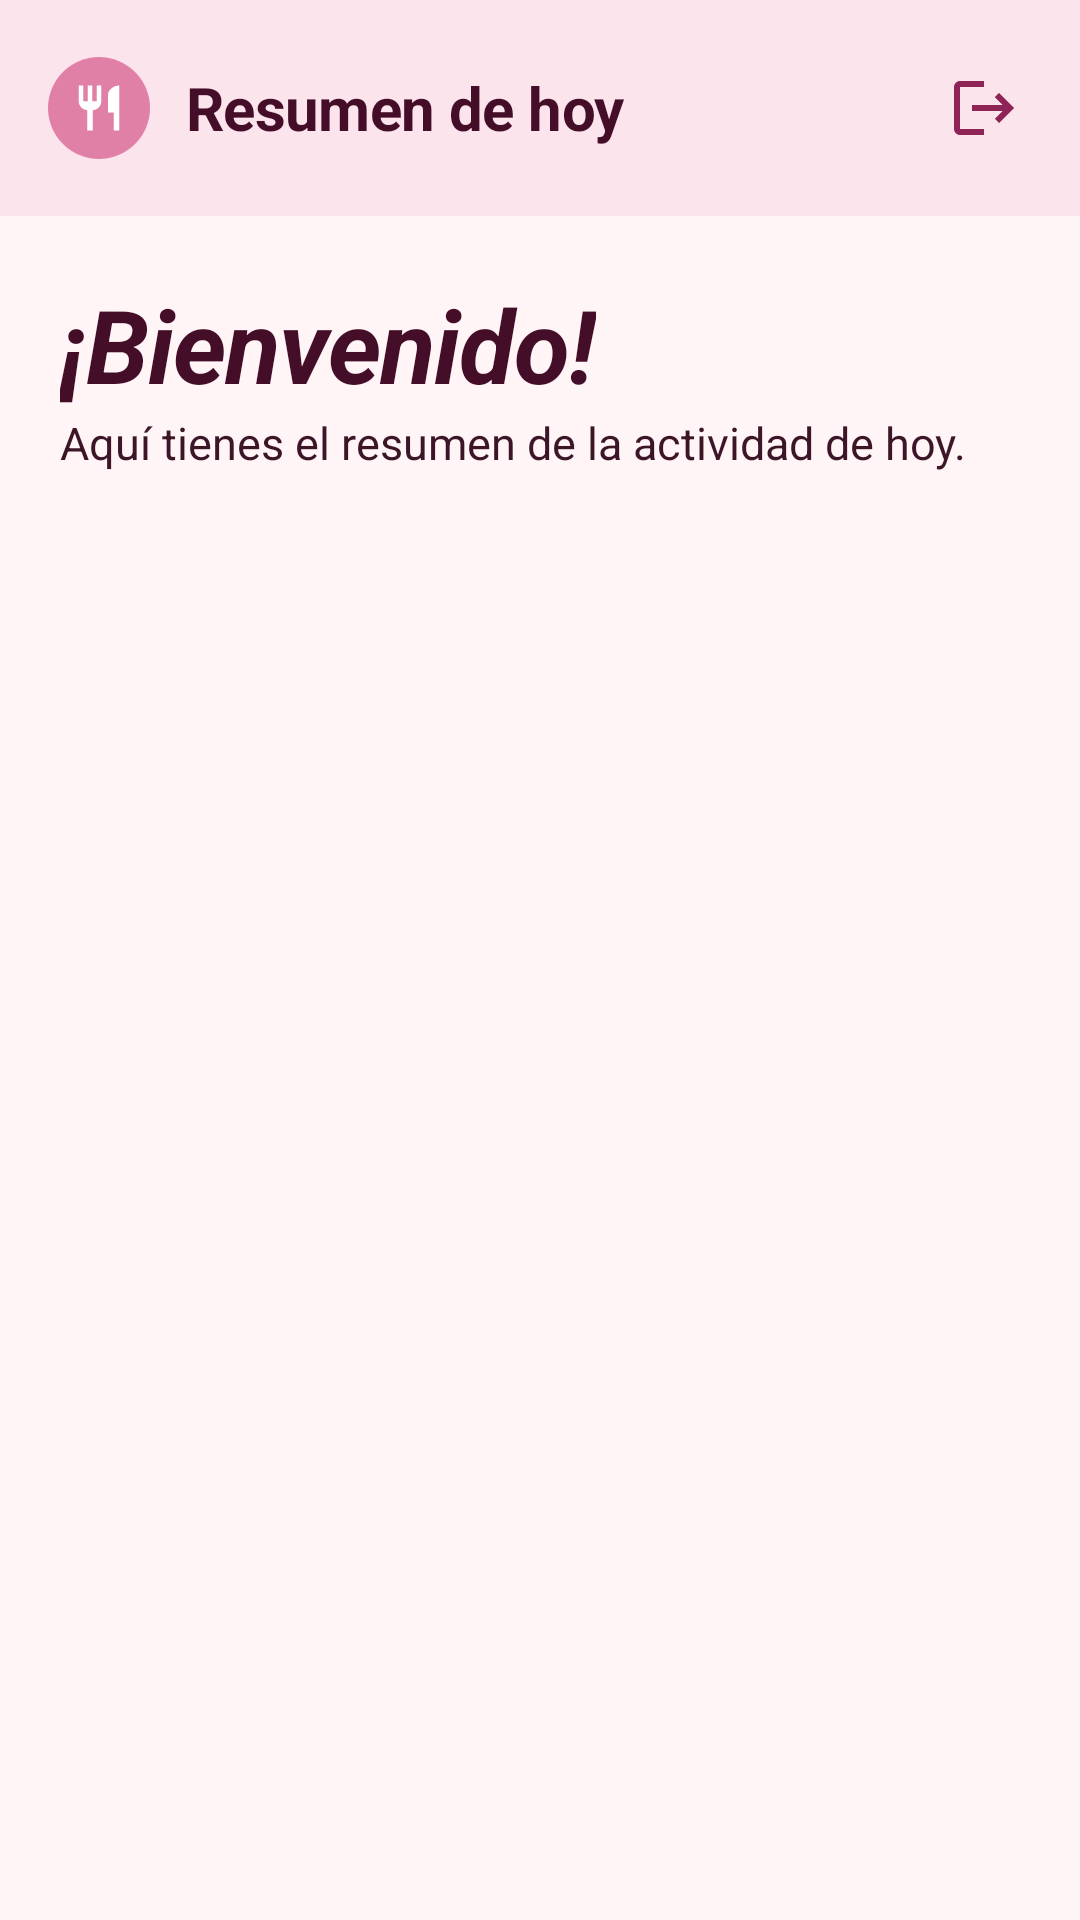

Icons on this 1080px×1920px Android screen, each with the point to tap as [x,y]:
cubiertos: [99,108]
